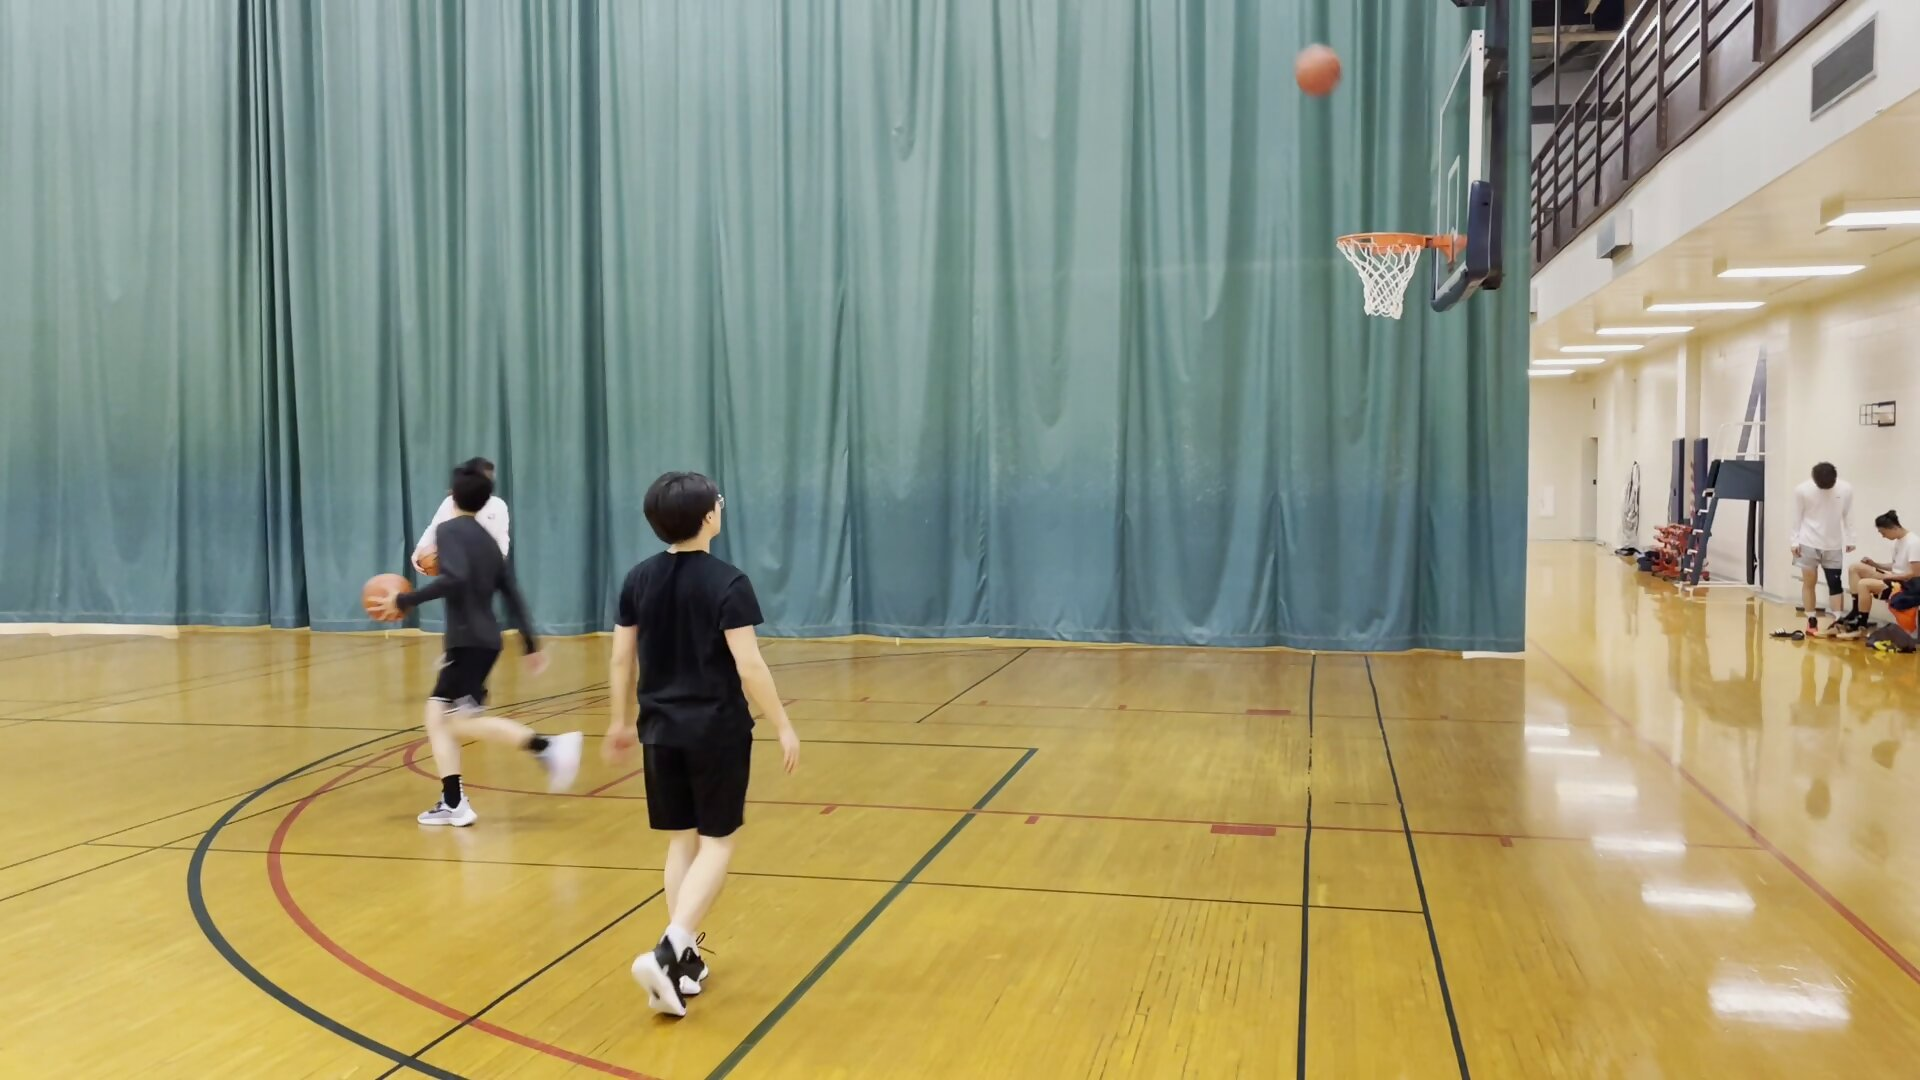ball: (359, 568, 412, 627), (1293, 43, 1340, 96)
net: (1355, 289, 1412, 324)
player: (602, 469, 791, 1022), (405, 467, 579, 834), (1787, 462, 1854, 635), (1851, 514, 1920, 636)
rim: (1333, 225, 1434, 259)
